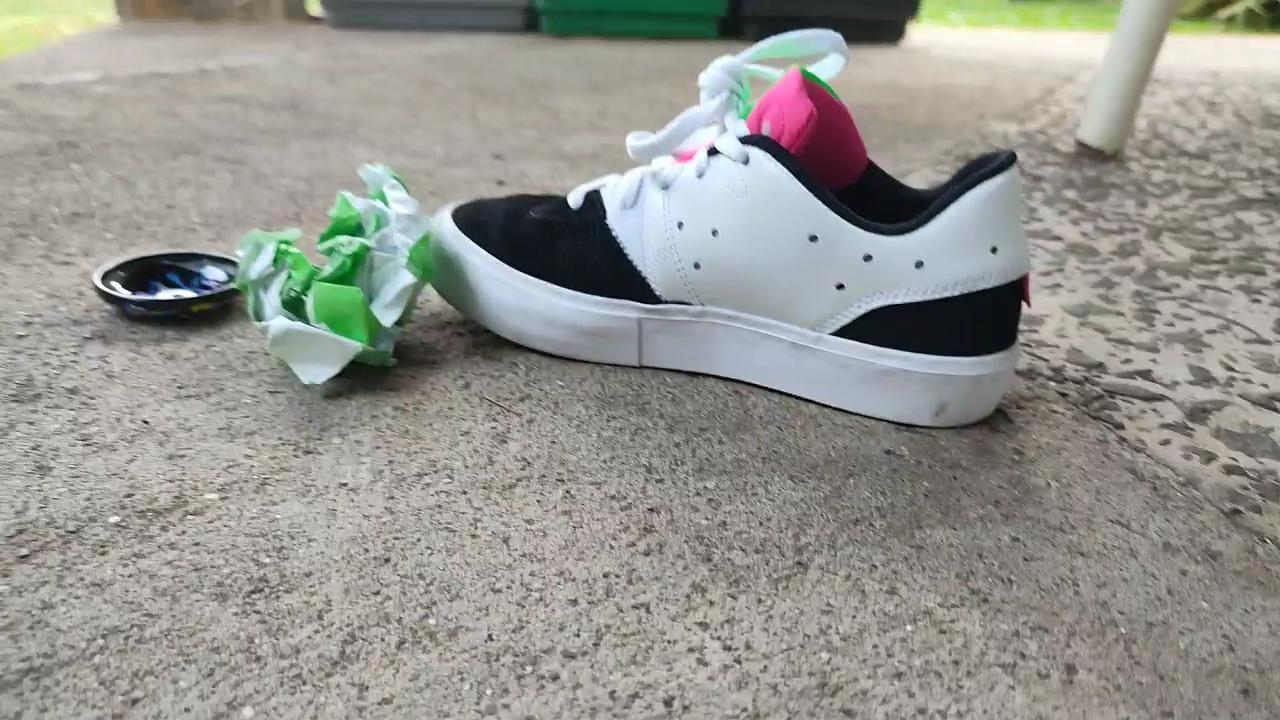Paper: (252, 159, 434, 391)
